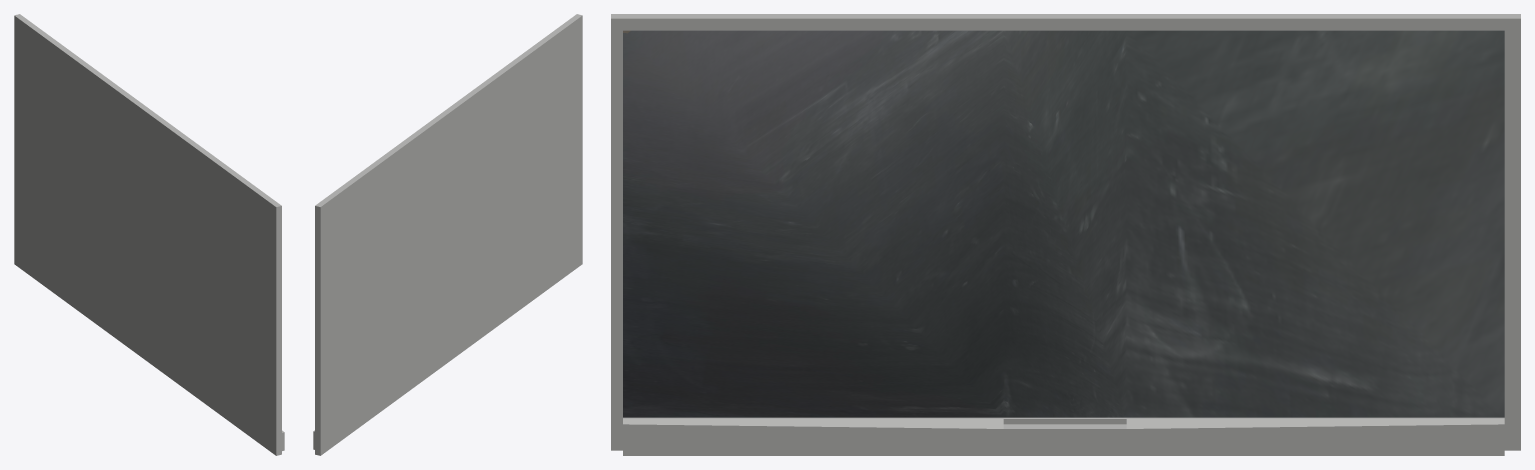
The model's file is blackboard.fbx.
The picture shows the model from 3 angles, left to right: view 1: azimuth 30°, elevation 25°; view 2: azimuth 150°, elevation 25°; view 3: azimuth 270°, elevation 25°; orthographic projection. The views are drawn at different scales.
Parts seen in each view (by area): view 1: board_low; view 2: board_low; view 3: board_low.
Part boxes in pixels (left/top/right/bottom): board_low: left=14, top=14, right=284, bottom=455; board_low: left=313, top=14, right=582, bottom=455; board_low: left=611, top=14, right=1520, bottom=455.
Bounding box in the file's own units: 14.15 × 280 × 535.
Materials: 2 (1 with a texture image).
